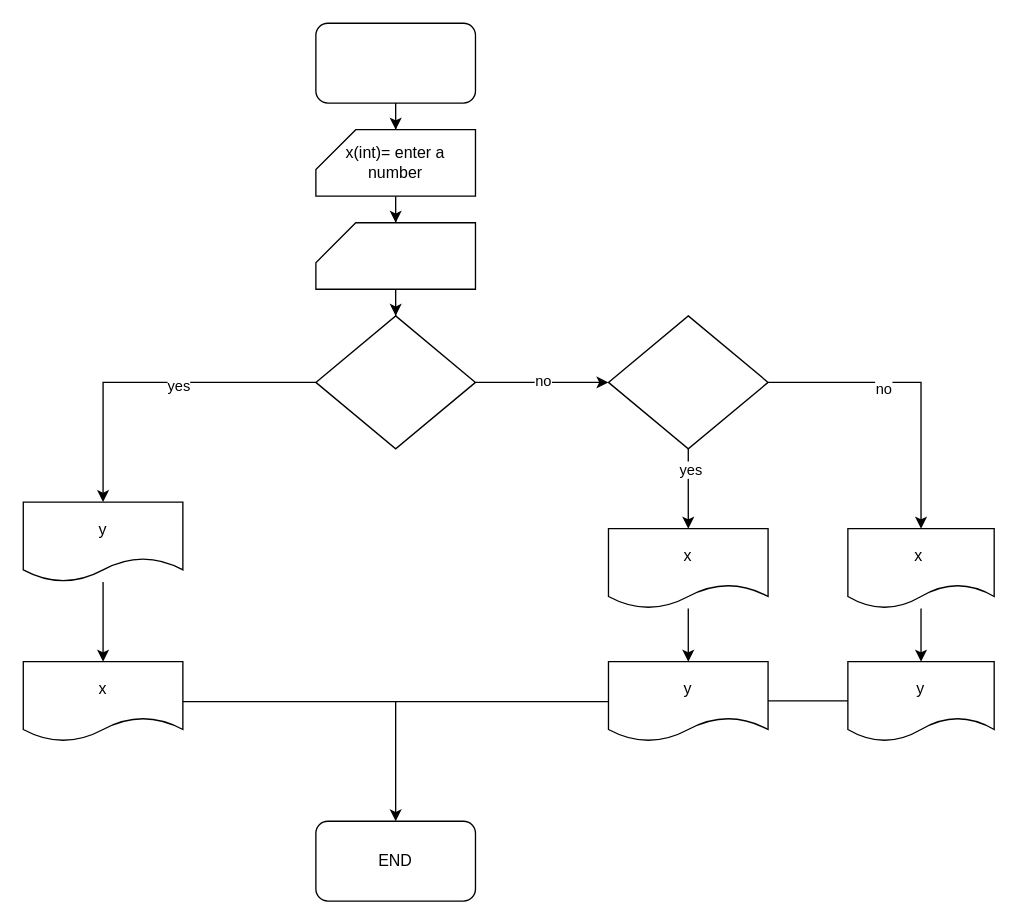
Some shapes in this 1017 by 924 pixel diagram are drawn without their labels. Here are the shapes that lost their labels. From the top down, the centre of each, then its label:
At point (395, 62): "START".
At point (395, 255): "y(int)= enter a number".
At point (395, 382): "x>y ?".
At point (687, 382): "y>x ?".
